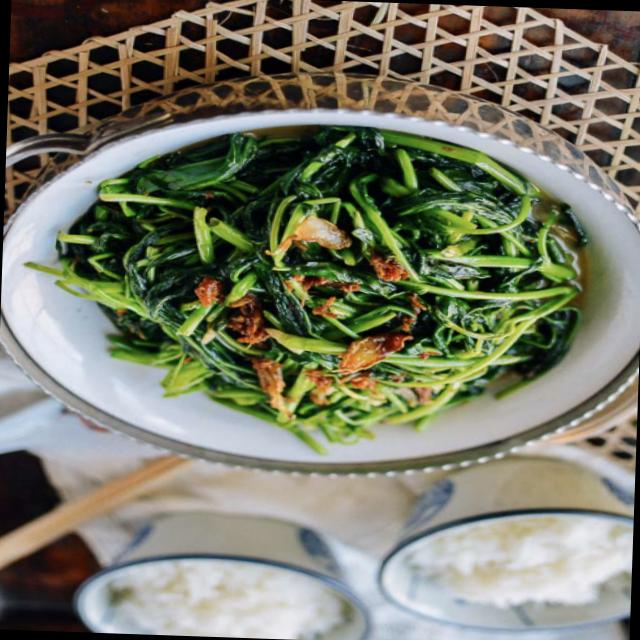rau muong: (28, 125, 586, 455)
